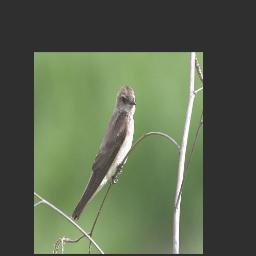Swallow: (69, 84, 137, 222)
